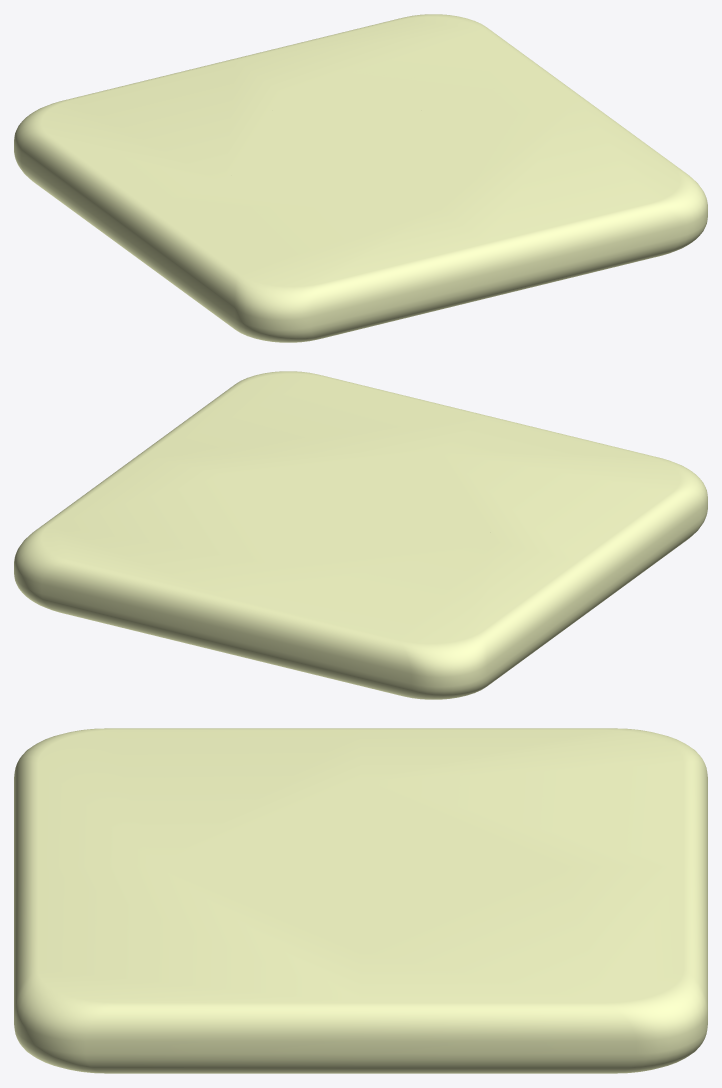
The model's file is platformorbayiso3.fbx.
3 renders of one model, top to bottom at view 1: azimuth 30°, elevation 25°; view 2: azimuth 150°, elevation 25°; view 3: azimuth 270°, elevation 25°, orthographic. The views are drawn at different scales.
Parts seen in each view (by area): view 1: Cube.007, Cube.008, Cube.006, Cube.005, Cube.009; view 2: Cube.006, Cube.005, Cube.007, Cube.008, Cube.009; view 3: Cube.005, Cube.008, Cube.006, Cube.007, Cube.009.
Part boxes in pixels (bbox=[...]): Cube.007: bbox=[128, 185, 495, 342]; Cube.008: bbox=[439, 98, 707, 297]; Cube.006: bbox=[14, 59, 282, 255]; Cube.005: bbox=[233, 14, 585, 118]; Cube.009: bbox=[225, 94, 496, 208]; Cube.006: bbox=[226, 542, 593, 699]; Cube.005: bbox=[14, 455, 282, 654]; Cube.007: bbox=[439, 416, 707, 612]; Cube.008: bbox=[136, 371, 488, 475]; Cube.009: bbox=[225, 451, 496, 565]; Cube.005: bbox=[361, 866, 707, 1073]; Cube.008: bbox=[14, 866, 360, 1073]; Cube.006: bbox=[361, 728, 707, 892]; Cube.007: bbox=[14, 728, 360, 892]; Cube.009: bbox=[159, 781, 562, 951].
Bounding box in the file's own units: 673 × 73.67 × 673.
Materials: 1 (1 with a texture image).
